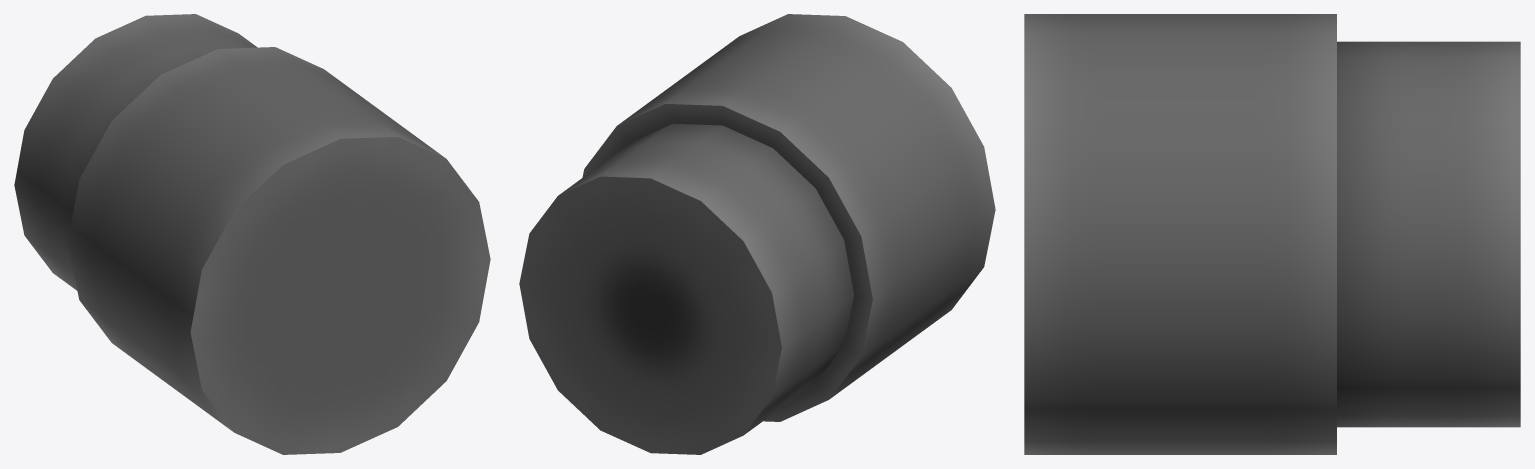
Rendered from Alniyat_Solar_1_Base.obj.
3 views of the same model, side by side, from view 1: azimuth 30°, elevation 25°; view 2: azimuth 150°, elevation 25°; view 3: azimuth 270°, elevation 25° (orthographic). The views are drawn at different scales.
Visible parts, largest first — view 1: Alniyat_Solar_1_Base; view 2: Alniyat_Solar_1_Base; view 3: Alniyat_Solar_1_Base.
Boxes of the visible parts, left/top/right/bottom form: Alniyat_Solar_1_Base: left=14, top=14, right=490, bottom=454; Alniyat_Solar_1_Base: left=519, top=14, right=995, bottom=454; Alniyat_Solar_1_Base: left=1024, top=14, right=1520, bottom=454.
Bounding box in the file's own units: 0.12 × 0.12 × 0.135.
